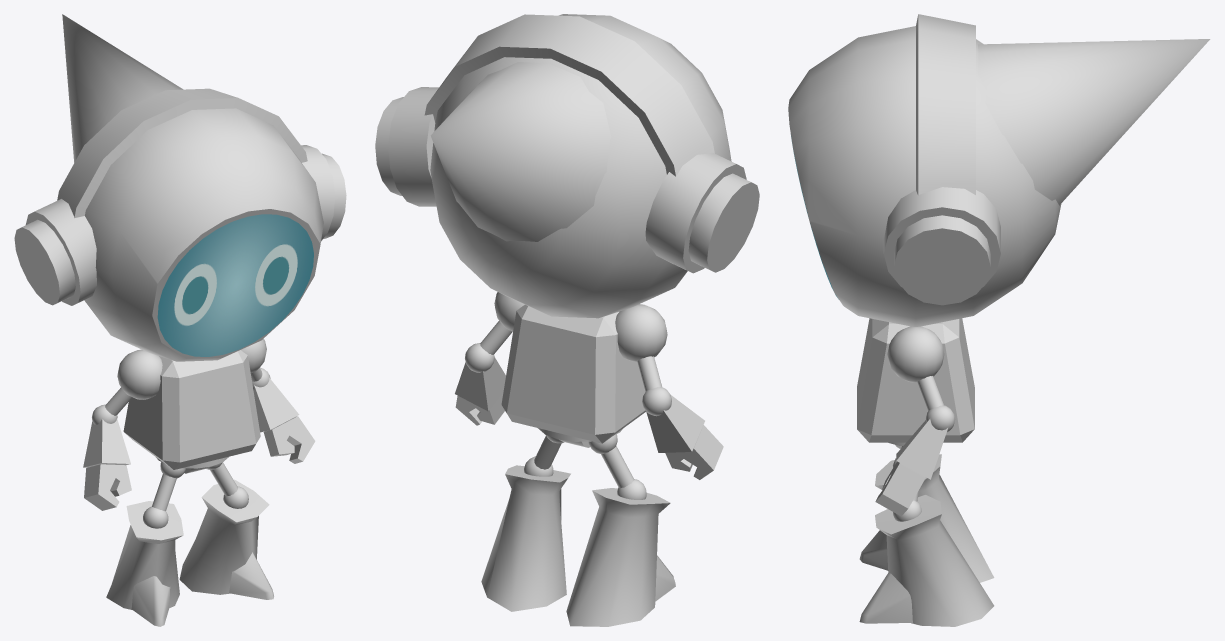
Rendered from mainCharacter_wip.glb.
The picture shows the model from 3 angles, left to right: view 1: azimuth 30°, elevation 25°; view 2: azimuth 150°, elevation 25°; view 3: azimuth 270°, elevation 25°; orthographic projection. The views are drawn at different scales.
Parts seen in each view (by area): view 1: Sphere.001, face circle, Cube.052, Cube.049, Cylinder.017, Cone, Sphere.005, Cube.056, Cube.054, Sphere.002, Cube.051, Sphere.004 (+2 smaller); view 2: Sphere.001, Cone, Cube.052, Cylinder.017, Cube.049, Sphere.005, Cube.054, Sphere.002, Cube.056, Sphere.006, Cube.051, Cube.053 (+1 smaller); view 3: Sphere.001, Cone, Cube.052, Cylinder.017, Sphere.005, Cube.049, Sphere.002, Cube.054, Cube.056.
Boxes of the visible parts, x1,y1,x2,y2 form: Sphere.001: (84, 108, 323, 361); face circle: (157, 214, 313, 356); Cube.052: (106, 479, 273, 626); Cube.049: (123, 350, 260, 469); Cylinder.017: (14, 145, 346, 305); Cone: (62, 14, 183, 162); Sphere.005: (57, 88, 307, 218); Cube.056: (84, 416, 315, 510); Cube.054: (83, 378, 299, 467); Sphere.002: (117, 339, 266, 399); Cube.051: (152, 462, 237, 511); Sphere.004: (143, 486, 248, 528); Sphere.001: (430, 14, 731, 318); Cone: (430, 62, 611, 241); Cube.052: (481, 465, 675, 626); Cylinder.017: (375, 87, 759, 273); Cube.049: (501, 304, 645, 443); Sphere.005: (424, 14, 714, 176); Cube.054: (455, 357, 704, 452); Sphere.002: (494, 292, 667, 362); Cube.056: (455, 392, 723, 479); Sphere.006: (465, 343, 671, 416); Cube.051: (534, 435, 633, 488); Cube.053: (480, 321, 661, 391); Sphere.001: (788, 26, 1061, 326); Cone: (977, 39, 1210, 205); Cube.052: (859, 454, 994, 626); Cylinder.017: (883, 187, 1000, 305); Sphere.005: (916, 14, 975, 195); Cube.049: (857, 318, 974, 442); Sphere.002: (887, 326, 944, 382); Cube.054: (896, 419, 947, 479); Cube.056: (875, 461, 925, 516).
Bounding box in the file's own units: 0.7034 × 1.1 × 0.7496.
Materials: 1 (1 with a texture image).
